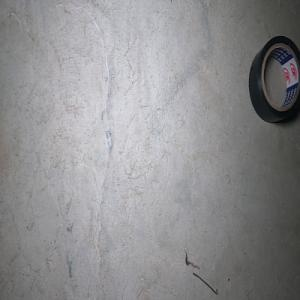Tape: (248, 35, 300, 123)
